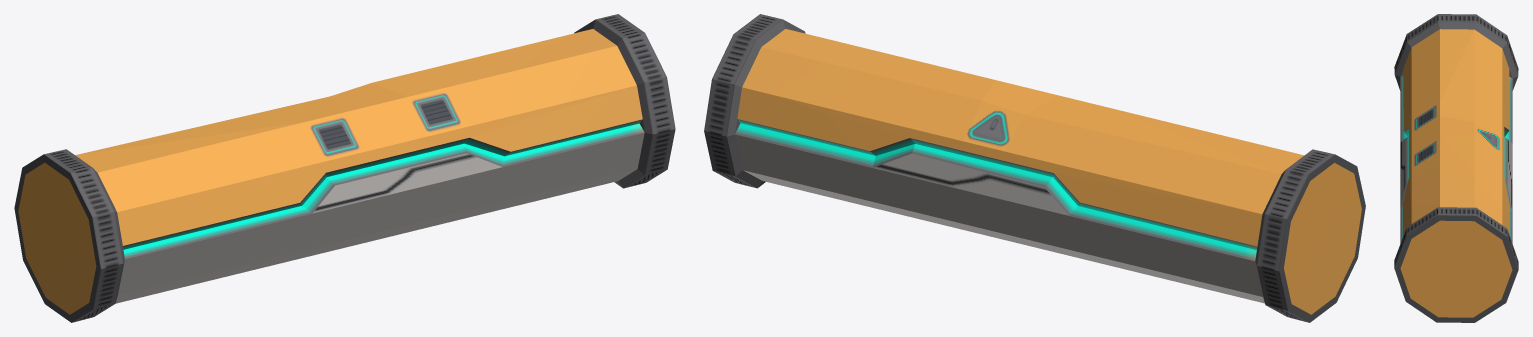
Rendered from SM_Bld_Pipe_Large_Circular_03.fbx.
3 renders of one model, left to right at view 1: azimuth 30°, elevation 25°; view 2: azimuth 150°, elevation 25°; view 3: azimuth 270°, elevation 25°, orthographic. The views are drawn at different scales.
Visible parts, largest first — view 1: SM_Bld_Pipe_Large_Circular_03; view 2: SM_Bld_Pipe_Large_Circular_03; view 3: SM_Bld_Pipe_Large_Circular_03.
Boxes of the visible parts, x1=… form: SM_Bld_Pipe_Large_Circular_03: x1=14, y1=14, x2=675, y2=322; SM_Bld_Pipe_Large_Circular_03: x1=704, y1=14, x2=1365, y2=322; SM_Bld_Pipe_Large_Circular_03: x1=1394, y1=14, x2=1518, y2=322.
Size of the model in its own units: 500 by 125 by 130.
